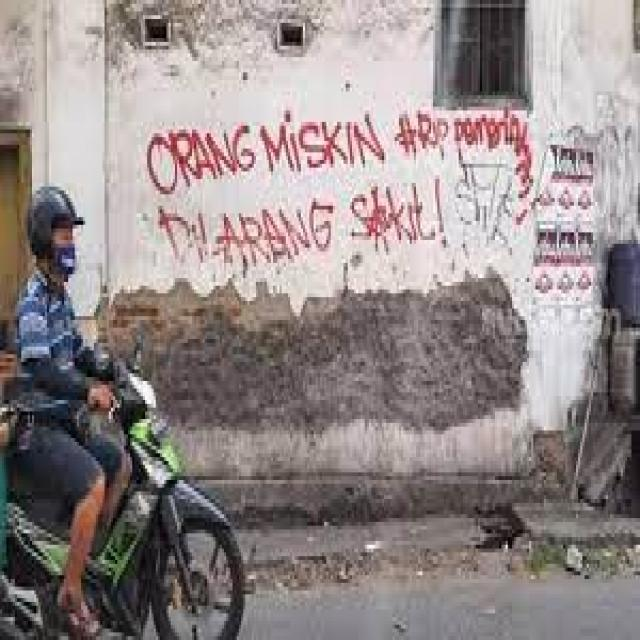-: (148, 109, 534, 275)
